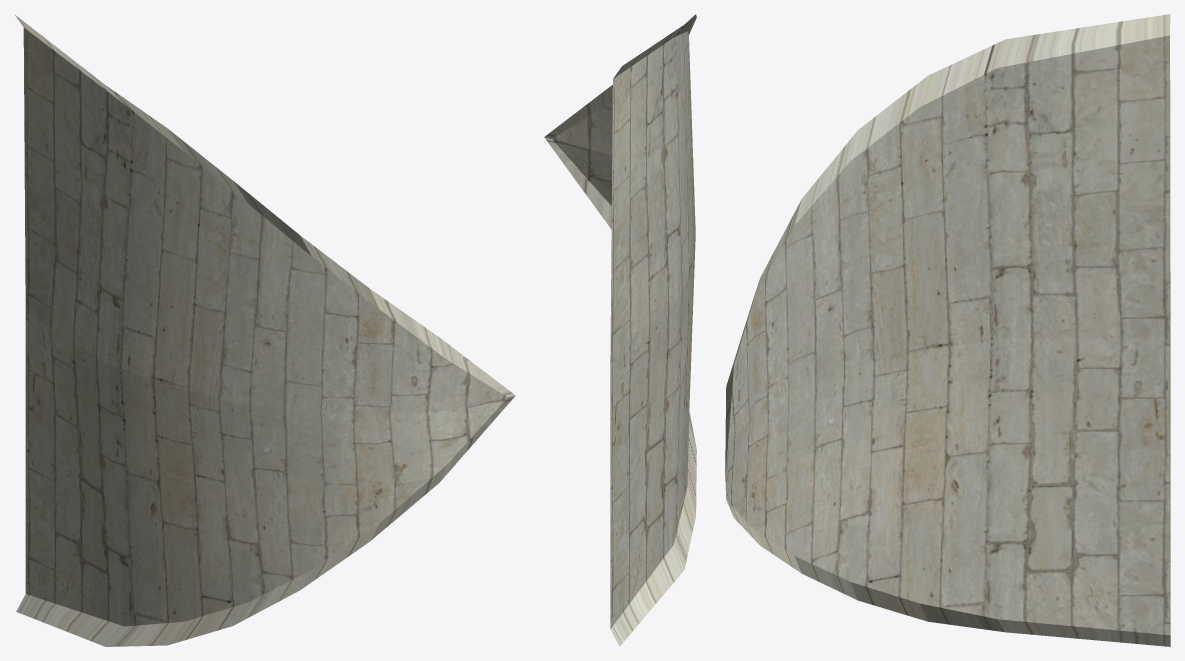
File: Cath_rooftall_piec2.fbx
The picture shows the model from 3 angles, left to right: view 1: azimuth 30°, elevation 25°; view 2: azimuth 150°, elevation 25°; view 3: azimuth 270°, elevation 25°; orthographic projection. The views are drawn at different scales.
Visible parts, largest first — view 1: Cath_rooftall_piec2; view 2: Cath_rooftall_piec2; view 3: Cath_rooftall_piec2.
Part boxes in pixels (x1=…): Cath_rooftall_piec2: x1=15, y1=15, x2=515, y2=646; Cath_rooftall_piec2: x1=544, y1=14, x2=696, y2=646; Cath_rooftall_piec2: x1=725, y1=14, x2=1170, y2=646.
Bounding box in the file's own units: 390 × 768 × 491.
